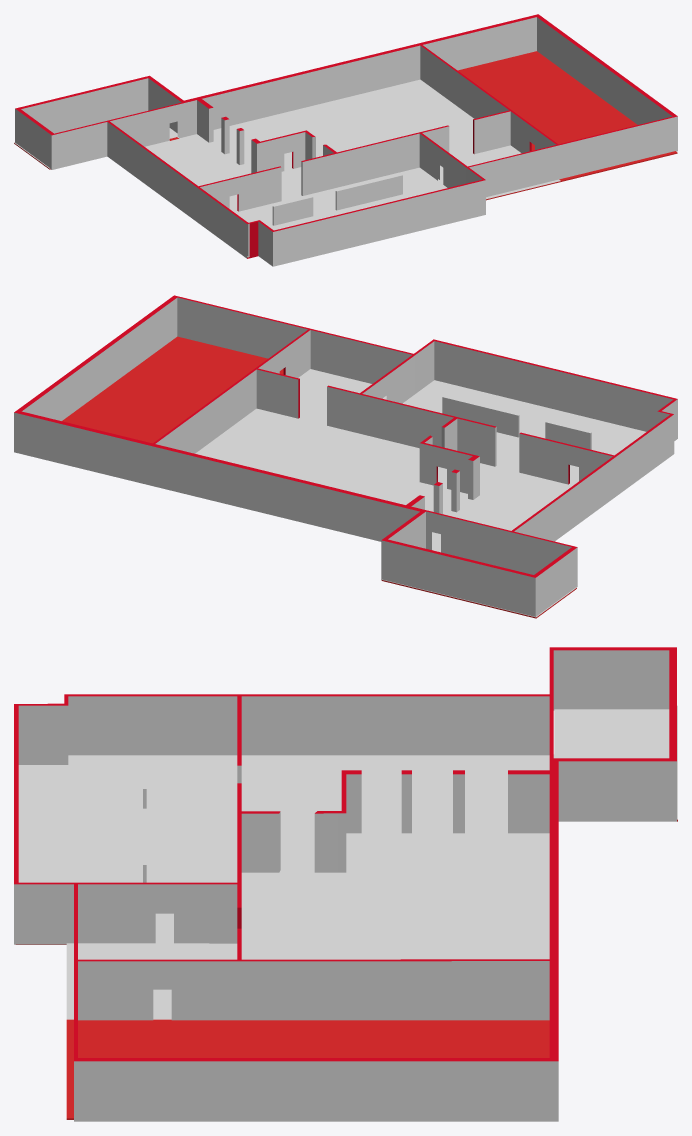
Rendered from clubLvl.fbx.
The picture shows the model from 3 angles, top to bottom: view 1: azimuth 30°, elevation 25°; view 2: azimuth 150°, elevation 25°; view 3: azimuth 270°, elevation 25°; orthographic projection. The views are drawn at different scales.
Visible parts, largest first — view 1: Cube.001, Cube; view 2: Cube.001, Cube; view 3: Cube.001, Cube.
Part boxes in pixels (x1,y1,x2,y2): Cube.001: [15, 14, 677, 266]; Cube: [14, 51, 677, 257]; Cube.001: [14, 295, 677, 616]; Cube: [62, 336, 645, 618]; Cube.001: [14, 647, 676, 1121]; Cube: [16, 705, 677, 1119].
Bounding box in the file's own units: 5404 × 370 × 3655.
